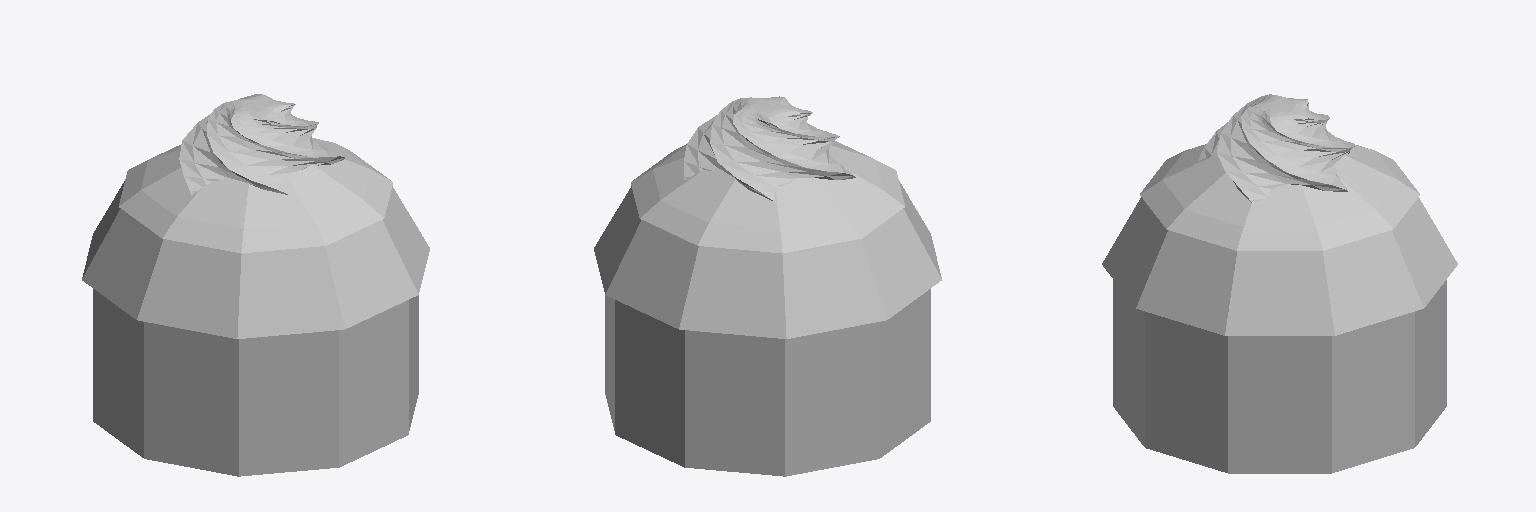
Rendered from Untopped Cupcake.obj.
3 renders of one model, left to right at view 1: azimuth 30°, elevation 25°; view 2: azimuth 150°, elevation 25°; view 3: azimuth 270°, elevation 25°, orthographic.
Visible parts, largest first — view 1: Cylinder.015; view 2: Cylinder.015; view 3: Cylinder.015.
Part boxes in pixels (left/top/right/bottom): Cylinder.015: left=82, top=94, right=429, bottom=476; Cylinder.015: left=594, top=96, right=941, bottom=476; Cylinder.015: left=1102, top=94, right=1457, bottom=473.
Size of the model in its own units: 1.52 by 1.49 by 1.6.